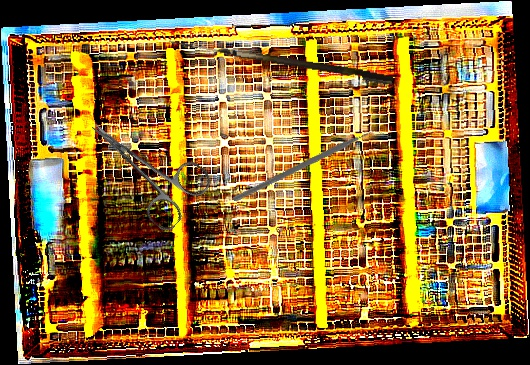Chopper: (231, 83, 389, 252)
Hook Surgical: (167, 40, 394, 85)
Iris Scissors: (71, 96, 216, 235)
